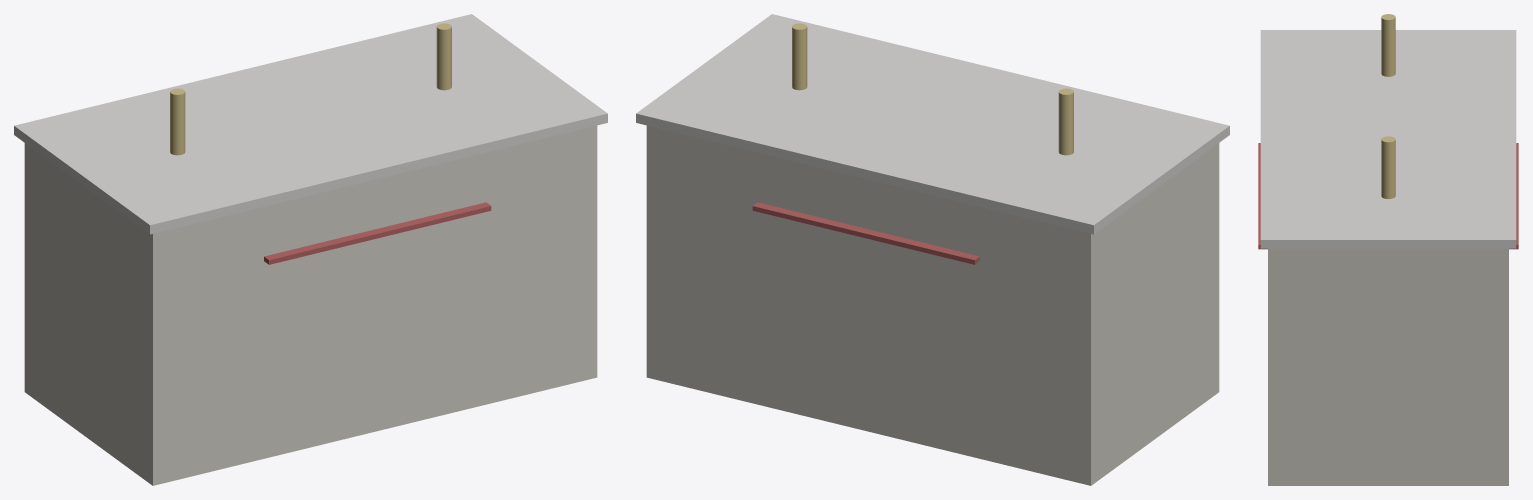
File: 1768-Furniture-interiors-altar.glb
3 views of the same model, side by side, from view 1: azimuth 30°, elevation 25°; view 2: azimuth 150°, elevation 25°; view 3: azimuth 270°, elevation 25° (orthographic). The views are drawn at different scales.
Parts seen in each view (by area): view 1: Furniture (interiors)/altar; view 2: Furniture (interiors)/altar; view 3: Furniture (interiors)/altar.
Boxes of the visible parts, <box> form: Furniture (interiors)/altar: <box>14,14,607,485</box>; Furniture (interiors)/altar: <box>636,14,1229,485</box>; Furniture (interiors)/altar: <box>1258,14,1518,485</box>.
Bounding box in the file's own units: 2.06 × 1.4 × 1.08.
